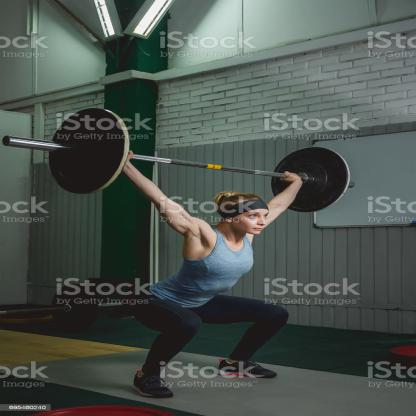Barbell: (38, 106, 133, 195)
